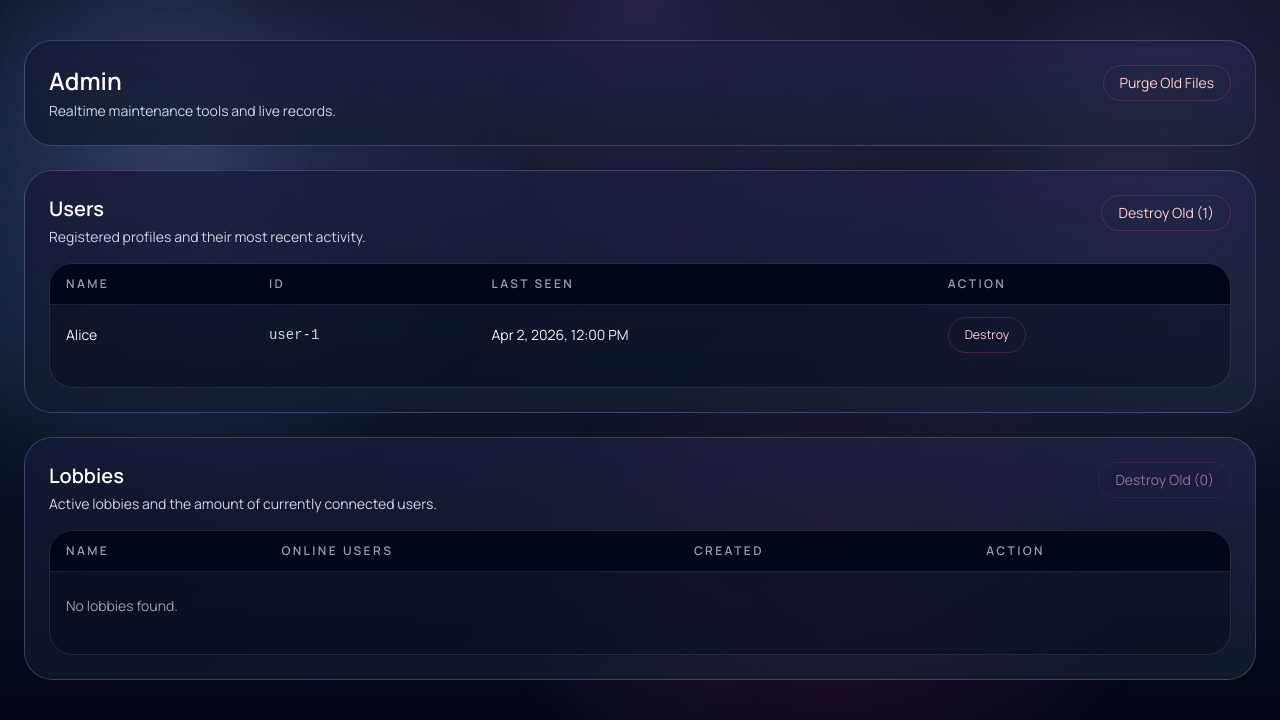
it: AdminRoute › confirms and destroys a user through the admin endpoint
This screenshot has width=1280, height=720.
Click the button with aria-label "Destroy user Alice". click: (987, 335)
box: 948,317 -> 1026,353
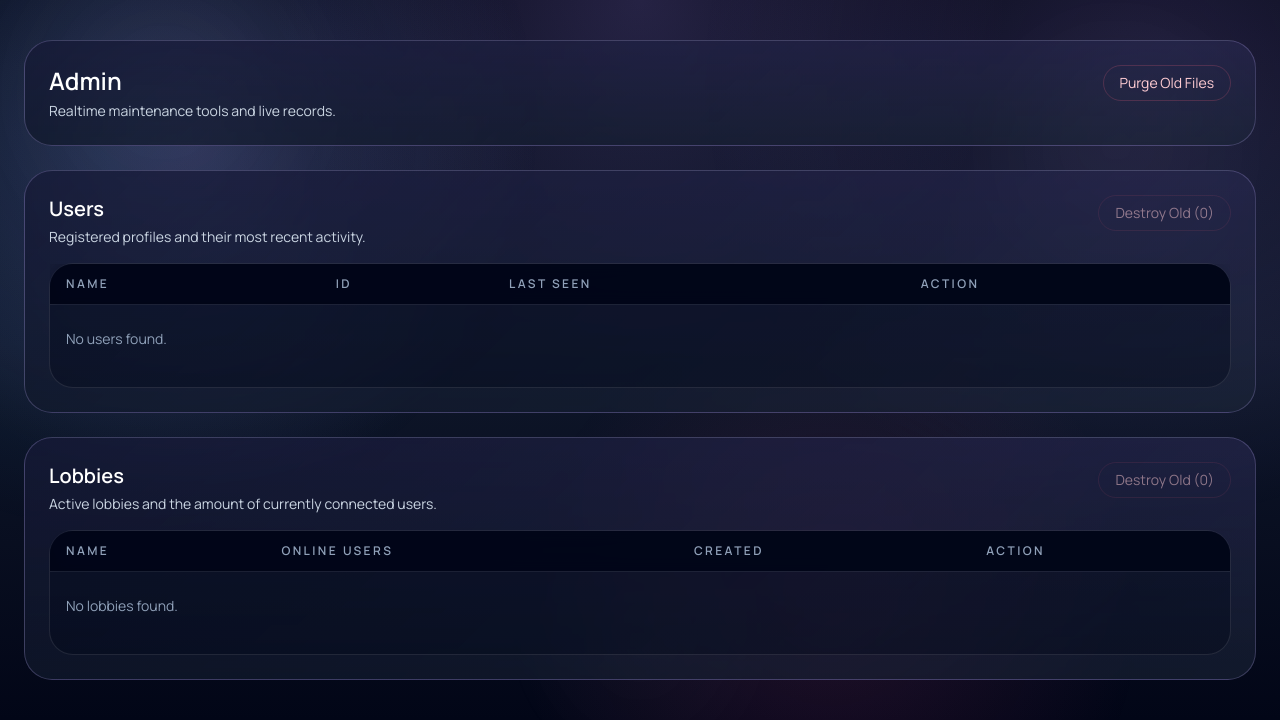
Expected: the text "Alice" is gone
